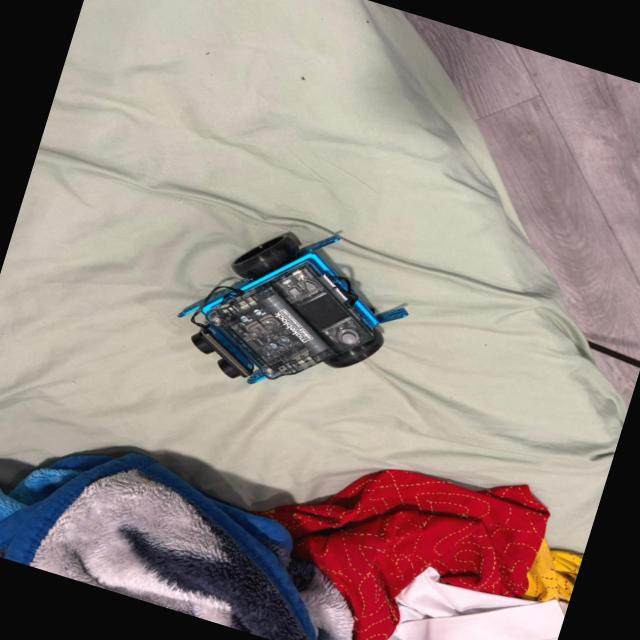mbot-detection: (158, 192, 433, 430)
